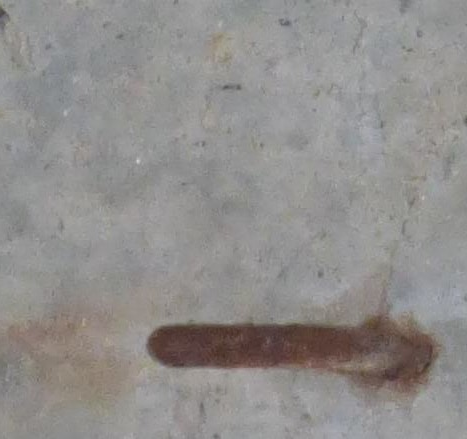Exposed reinforcement: (146, 323, 417, 374)
